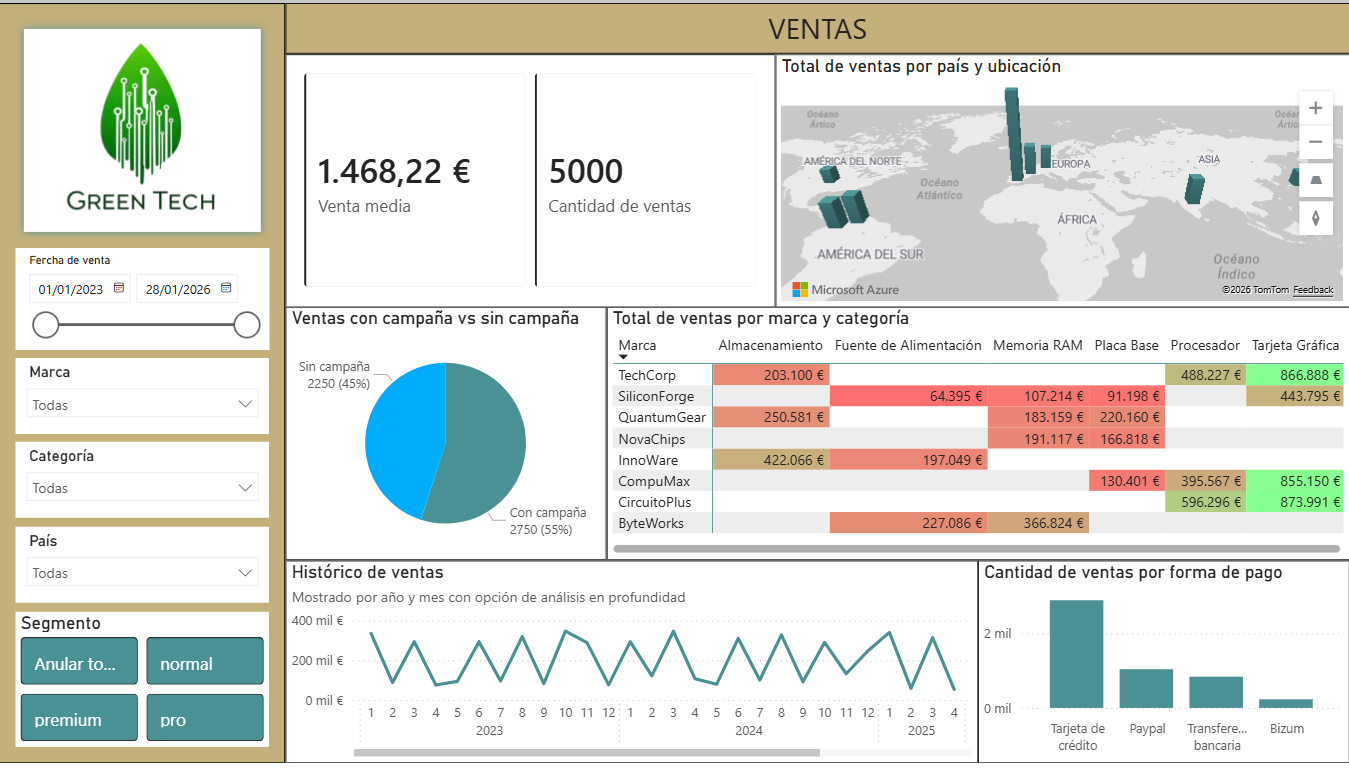

The dashboard page shown, as its layout file describes it:
{"tool":"powerbi","page":{"name":"Ventas","canvas":[1280,720],"ordinal":0},"visuals":[{"type":"shape","box":[0,0,272,720],"z":0},{"type":"textbox","box":[272,0,1008,48],"z":1000},{"type":"shape","box":[16,16,240,208],"z":2000},{"type":"actionButton","box":[48,32,176,176],"z":3000},{"type":"slicer","fields":{"Values":["ventas.fecha_venta"]},"box":[16,232,240,96],"z":4000},{"type":"slicer","fields":{"Values":["marcas.nombre"]},"box":[16,336,240,72],"z":5000},{"type":"slicer","fields":{"Values":["categorias.nombre"]},"box":[16,416,240,72],"z":6000},{"type":"advancedSlicerVisual","fields":{"Values":["clientes.segmento"]},"box":[16,576,240,128],"z":7000},{"type":"slicer","fields":{"Values":["paises.nombre"]},"box":[16,496,240,72],"z":8000},{"type":"cardVisual","fields":{"Data":["Avg(ventas.precio_venta_total)","CountNonNull(ventas.forma_pago_id)"]},"box":[272,48,464,240],"z":9000},{"type":"azureMap","title":"Total de ventas por país y ubicación","fields":{"Category":["paises.nombre","clientes.ubicacion"],"Size":["Sum(ventas.precio_venta_total)"]},"box":[736,48,544,240],"z":10000},{"type":"pieChart","title":"Ventas con campaña vs sin campaña","fields":{"Category":["ventas.estadoCampaña"],"Y":["CountNonNull(ventas.venta_id)"]},"box":[272,288,304,240],"z":11000},{"type":"pivotTable","title":"Total de ventas por marca y categoría","fields":{"Columns":["categorias.nombre"],"Rows":["marcas.nombre"],"Values":["Sum(lineas_venta.precio_venta_total)"]},"box":[576,288,704,240],"z":12000},{"type":"lineChart","title":"Histórico de ventas","fields":{"Category":["ventas.AñoVenta","ventas.MesVenta"],"Y":["Sum(ventas.precio_venta_total)"]},"box":[272,528,656,192],"z":13000},{"type":"columnChart","title":"Cantidad de ventas por forma de pago","fields":{"Category":["formas_pago.nombre"],"Y":["CountNonNull(ventas.venta_id)"]},"box":[928,528,352,192],"z":14000}]}

Visuals, with their boxes in screenshot pixels (x1, y1, x2, y2), scaled from the page's 1280x720 canvas onto the 1349x773 screenshot:
shape: l=0, t=0, r=287, b=772
textbox: l=287, t=0, r=1348, b=52
shape: l=17, t=17, r=270, b=240
actionButton: l=51, t=34, r=236, b=223
slicer - ventas.fecha_venta: l=17, t=249, r=270, b=352
slicer - marcas.nombre: l=17, t=361, r=270, b=438
slicer - categorias.nombre: l=17, t=447, r=270, b=524
advancedSlicerVisual - clientes.segmento: l=17, t=618, r=270, b=756
slicer - paises.nombre: l=17, t=533, r=270, b=610
cardVisual - Avg(ventas.precio_venta_total) x CountNonNull(ventas.forma_pago_id): l=287, t=52, r=776, b=309
"Total de ventas por país y ubicación" azureMap: l=776, t=52, r=1348, b=309
"Ventas con campaña vs sin campaña" pieChart: l=287, t=309, r=607, b=567
"Total de ventas por marca y categoría" pivotTable: l=607, t=309, r=1348, b=567
"Histórico de ventas" lineChart: l=287, t=567, r=978, b=772
"Cantidad de ventas por forma de pago" columnChart: l=978, t=567, r=1348, b=772
